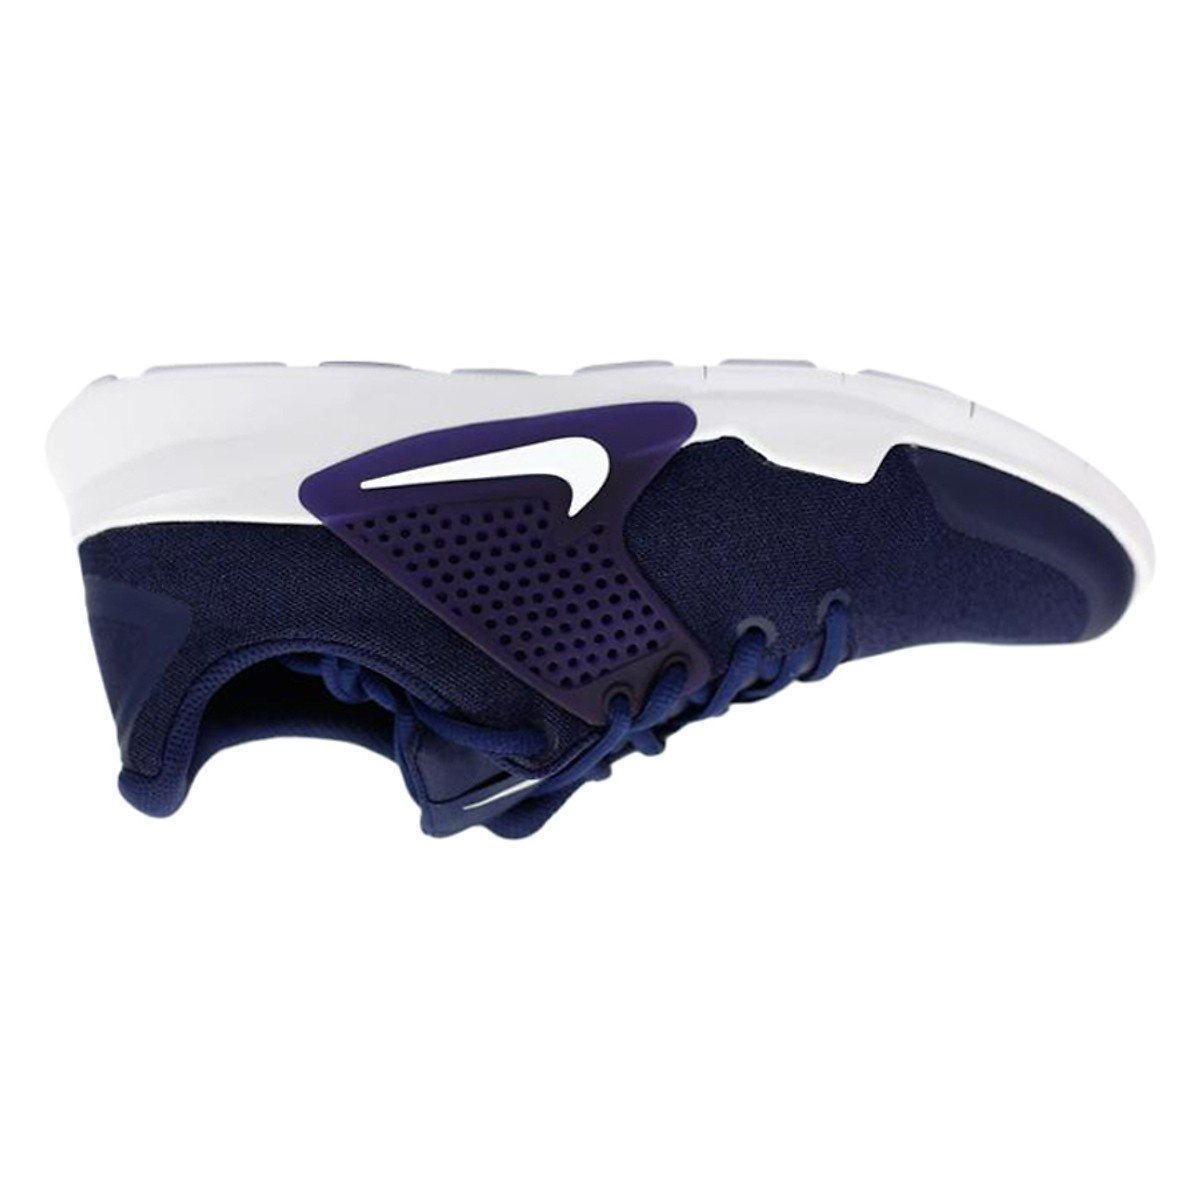Nike: (352, 376, 643, 559)
